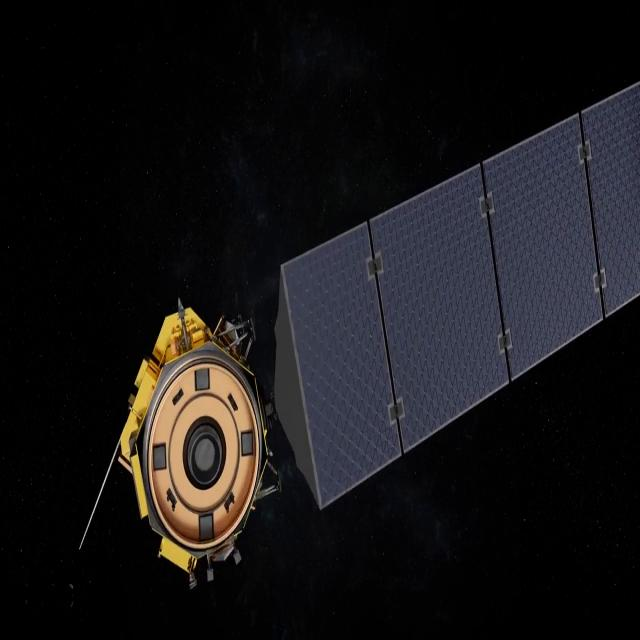satellite: (74, 67, 640, 598)
